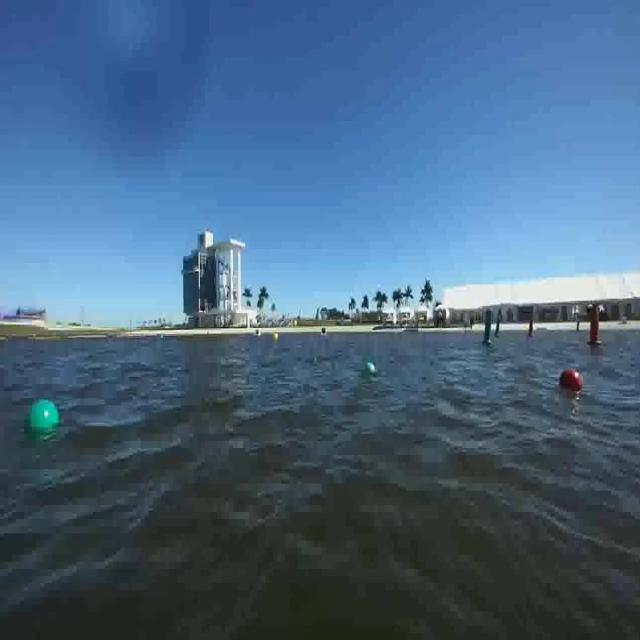green-buoy: (27, 399, 61, 438), (365, 364, 377, 374)
green-column-buoy: (481, 310, 495, 348), (493, 312, 502, 338)
red-buoy: (560, 368, 583, 391)
red-column-buoy: (588, 308, 602, 346), (526, 314, 536, 340)
yellow-buoy: (274, 334, 280, 344)
